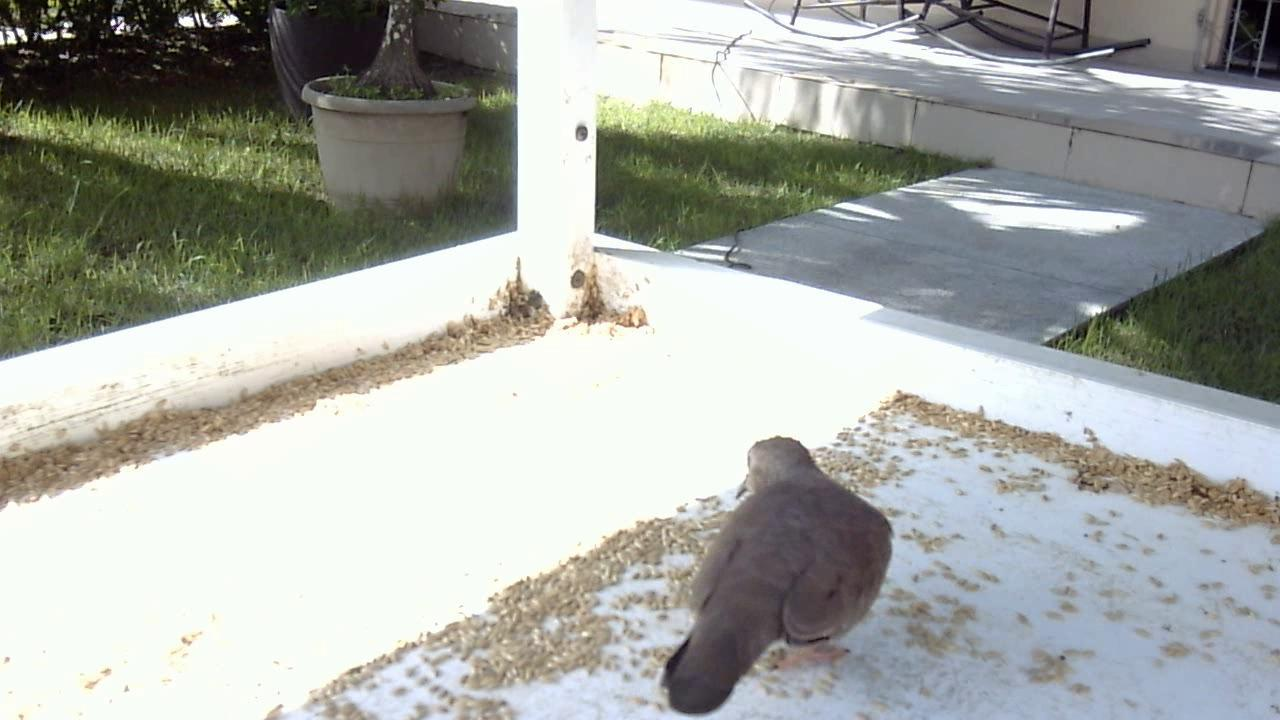rolinha: (646, 414, 906, 720)
